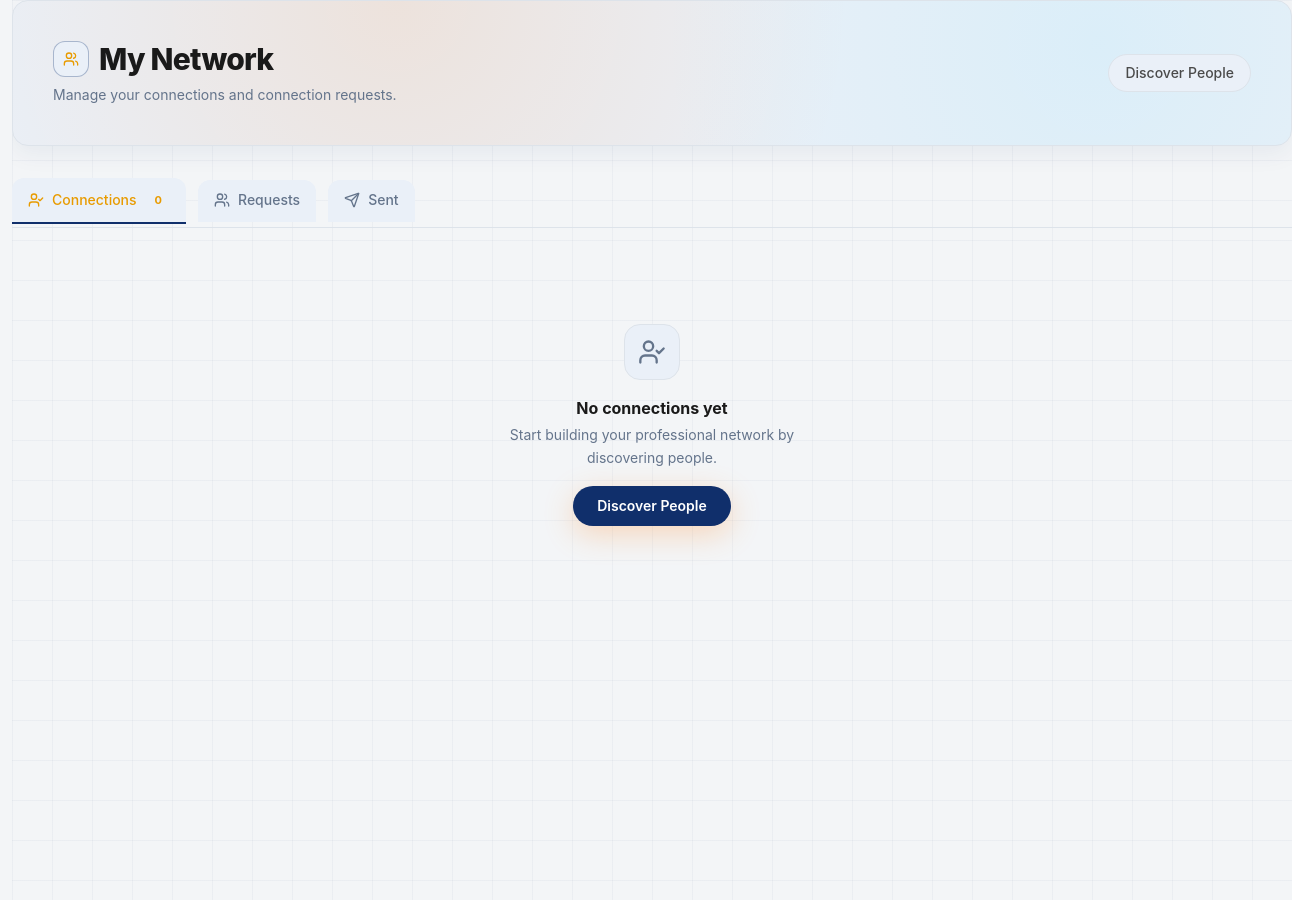
Scenario: 6. Request cards are displayed with correct names
This screenshot has width=1292, height=900.
Click the tab "Requests".
click(257, 201)  # box [198,180,316,222]
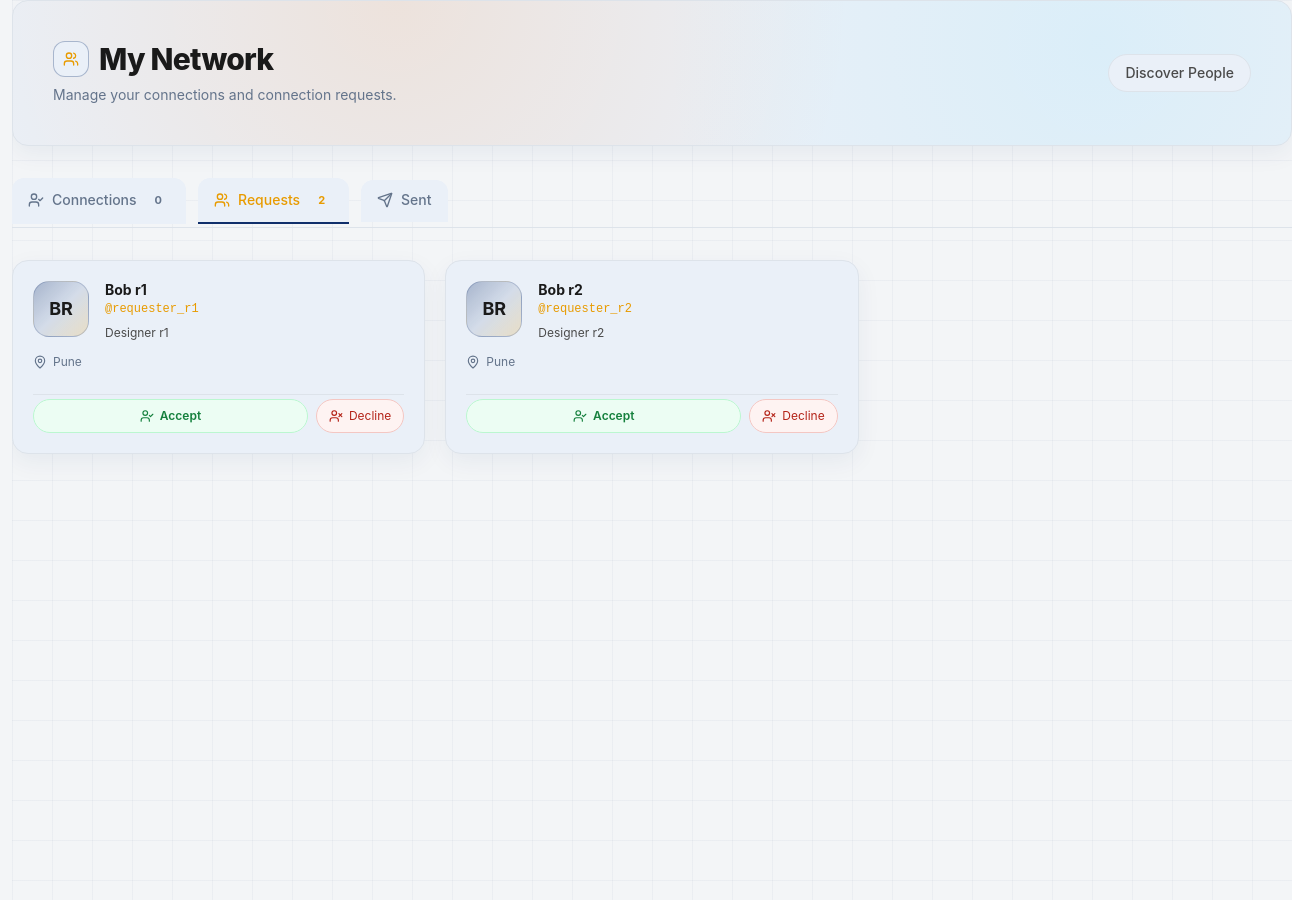
Expected: the number of elements with test id "connection-card" is 2, [12,260,425,454]; [445,260,859,454]
